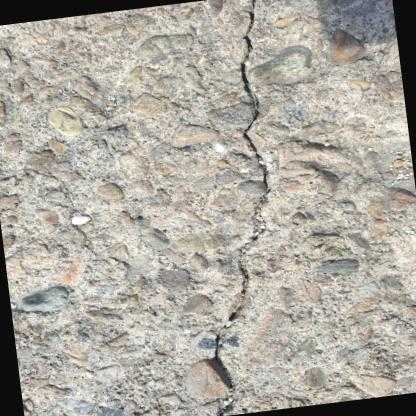crack: (211, 0, 271, 416)
